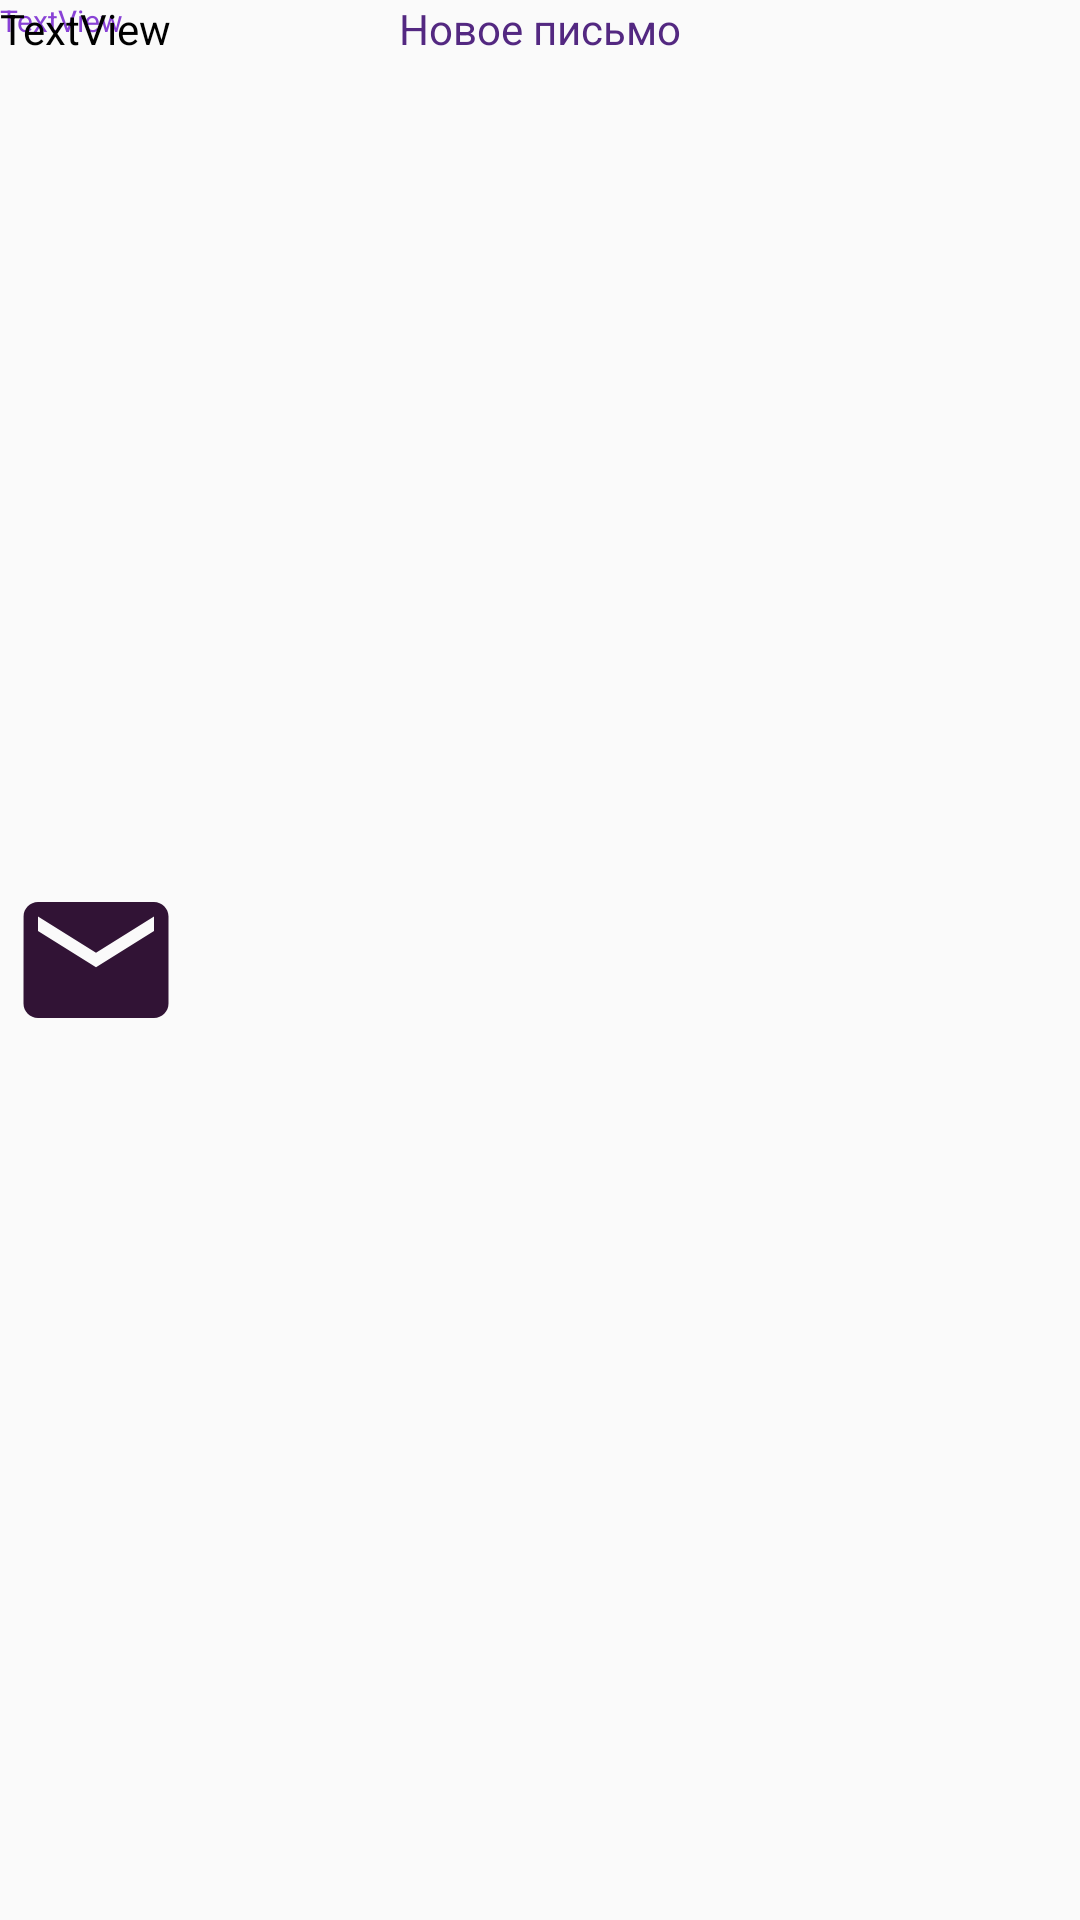

Named icons in this screenshot (1080 x 1920) and their bounding boxes, (x1, y1, x2, y2):
email: (23, 902, 169, 1018)
